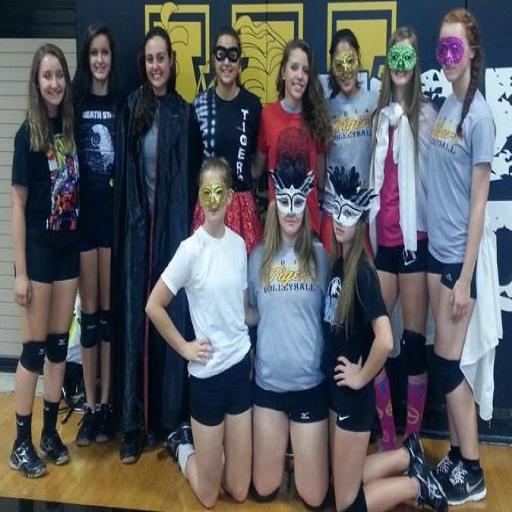person: (323, 168, 447, 511), (111, 27, 200, 463), (146, 157, 254, 508), (428, 10, 495, 505), (10, 45, 79, 477), (249, 158, 328, 509), (370, 27, 436, 437), (73, 25, 116, 445), (194, 26, 262, 253), (253, 40, 331, 236), (327, 28, 378, 185)
